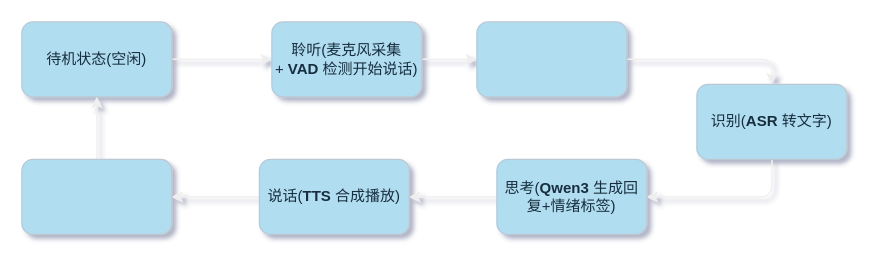
Some shapes in this 876 by 264 pixel diagram are drawn without their labels. The centre of each missing label's shape, as x and y in pixels:
"回到待机状态" belongs at (x=96, y=196).
"校验(声纹确认是你)" belongs at (x=551, y=59).
